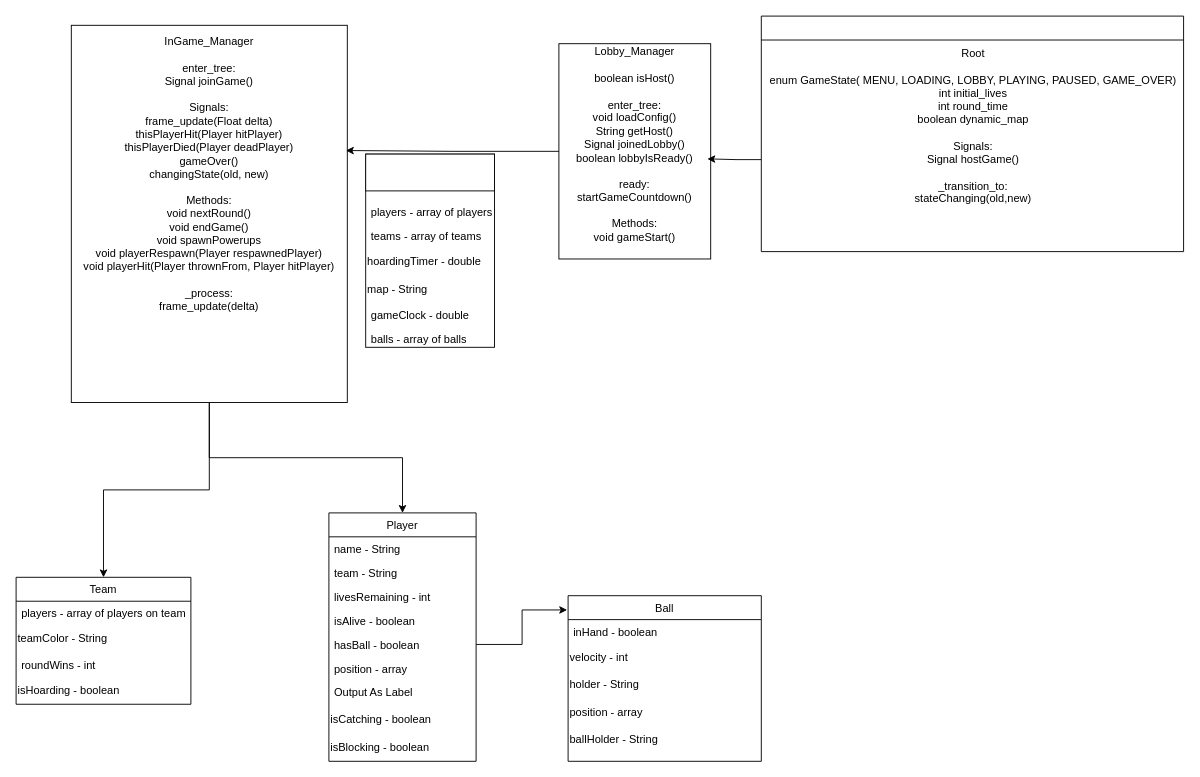
This 1200x777 diagram has some shape labels left out. Each missing label, with the box of its shape:
Game Manager: (760, 15, 1184, 252)
Ingame Variables: (365, 153, 494, 191)
